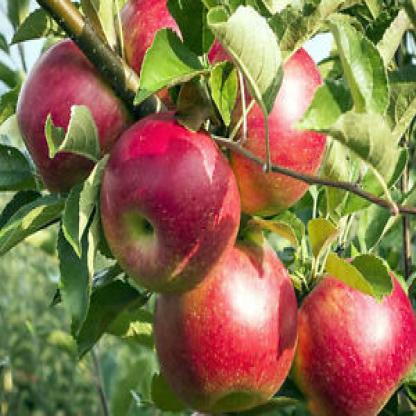apple: (147, 227, 298, 414), (97, 107, 241, 296), (184, 40, 336, 207), (15, 38, 144, 200), (286, 249, 412, 414)
